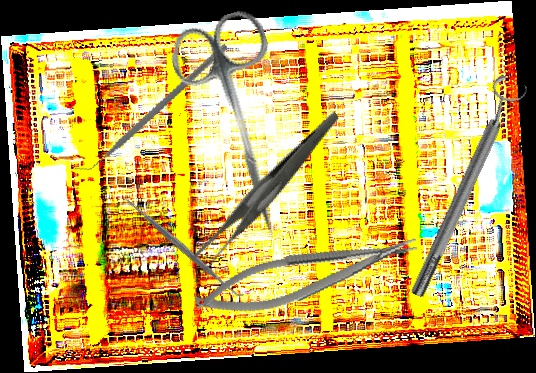Chopper: (73, 12, 228, 202)
Dressing Forceps: (161, 110, 374, 276)
Fixation Ring: (398, 72, 532, 303)
Iris Scissors: (163, 5, 322, 248)
Needle Holder: (190, 226, 424, 326)
Spatula Surgical: (117, 189, 247, 305)
